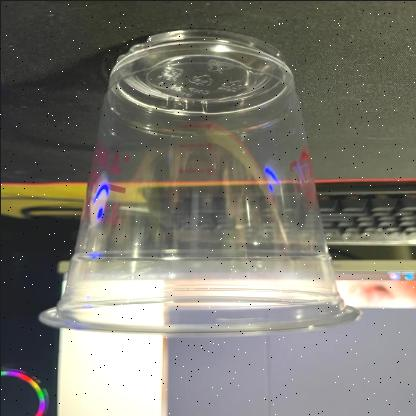Others: (32, 27, 362, 339)
